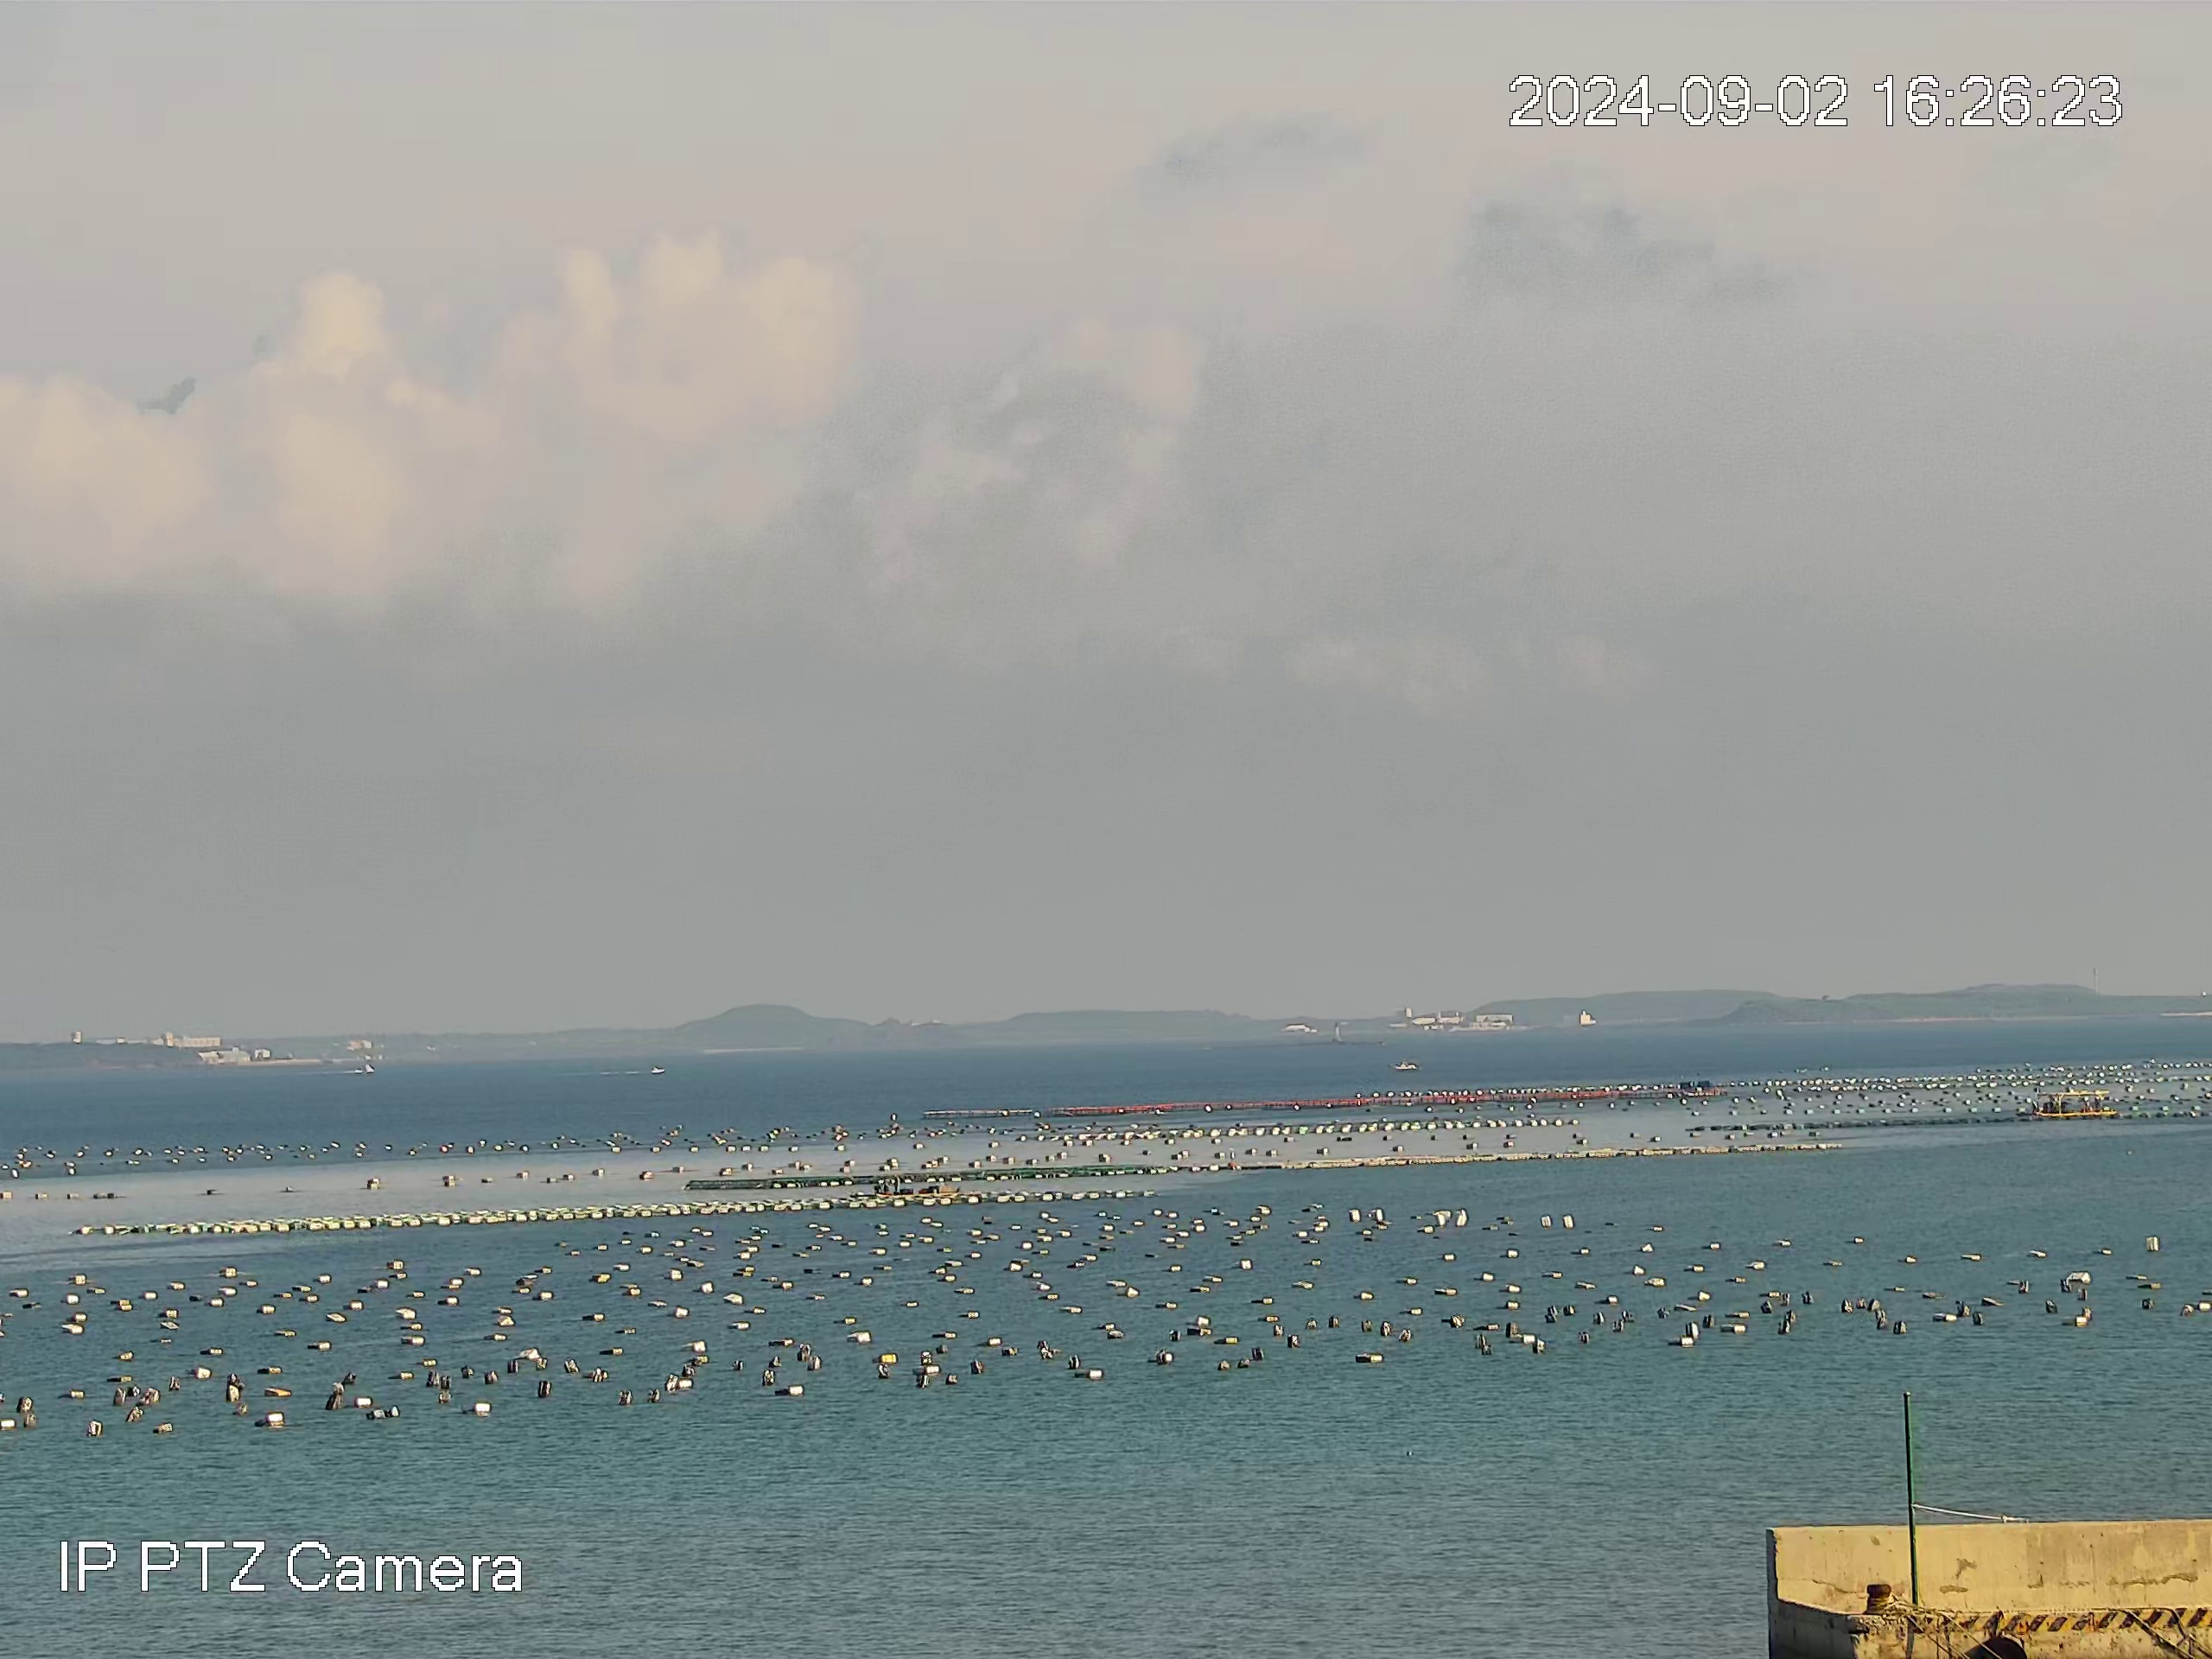boat: (2029, 1086, 2118, 1121), (874, 1173, 961, 1199), (1392, 1060, 1418, 1072)
